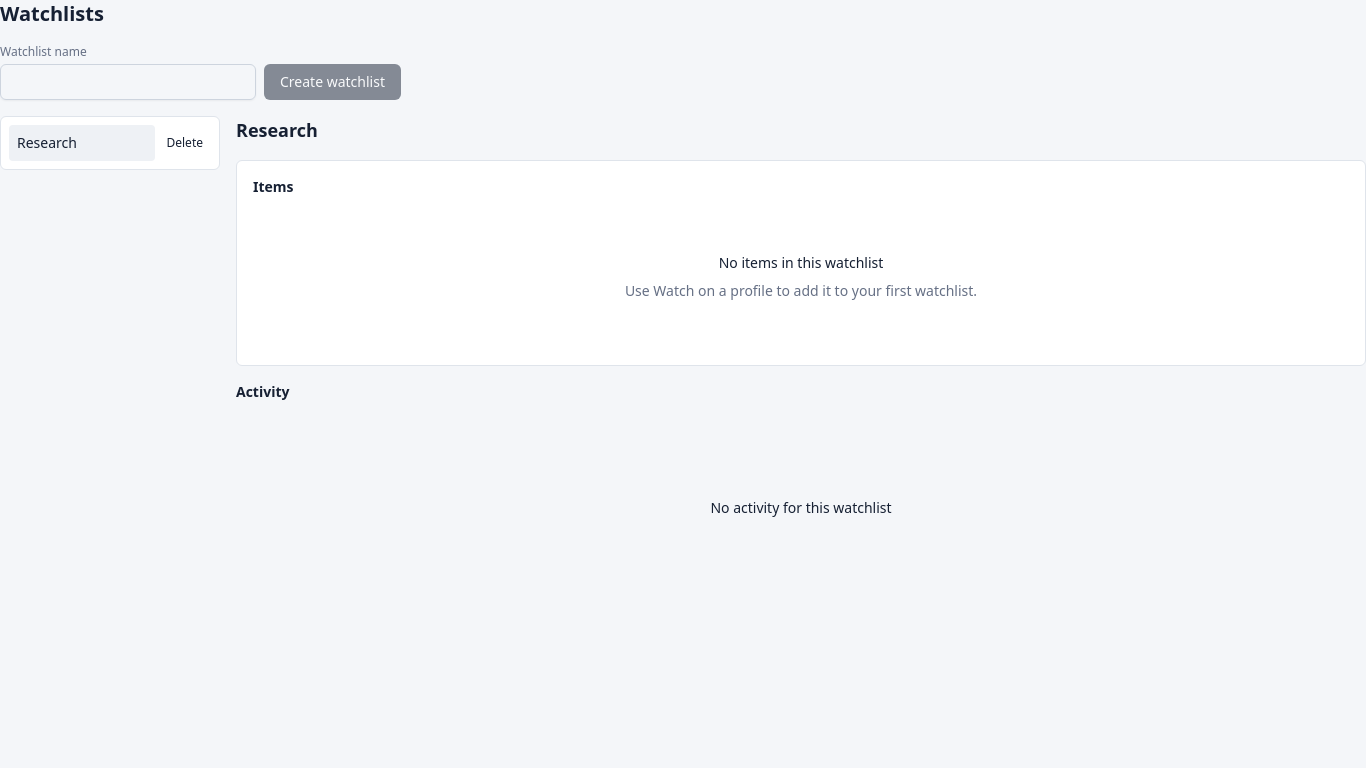
Test: failed deletion keeps its confirmation and does not remove the list
This screenshot has width=1366, height=768.
Click the button with aria-label "Delete Research".
click(185, 143)  # box [158, 131, 211, 155]
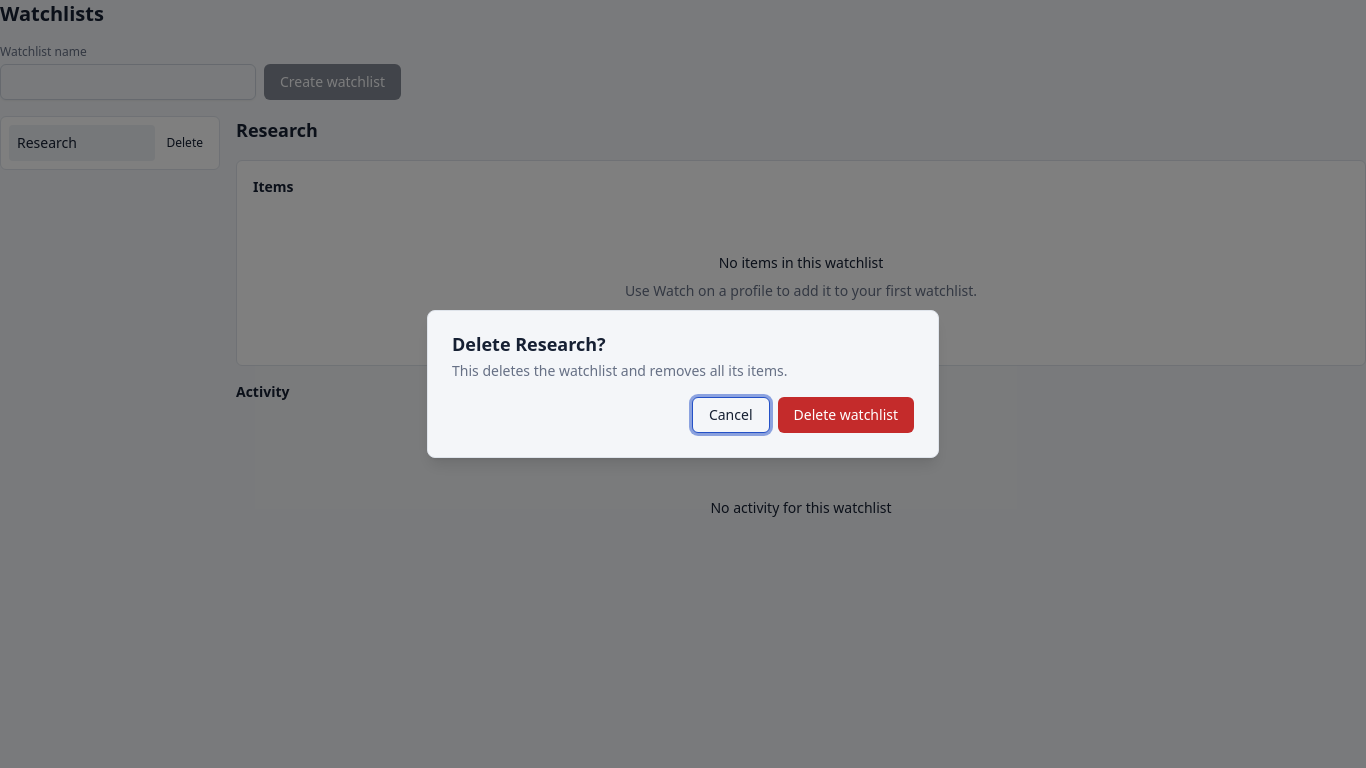
Click the button "Delete watchlist".
click(846, 415)  # box [778, 397, 914, 433]
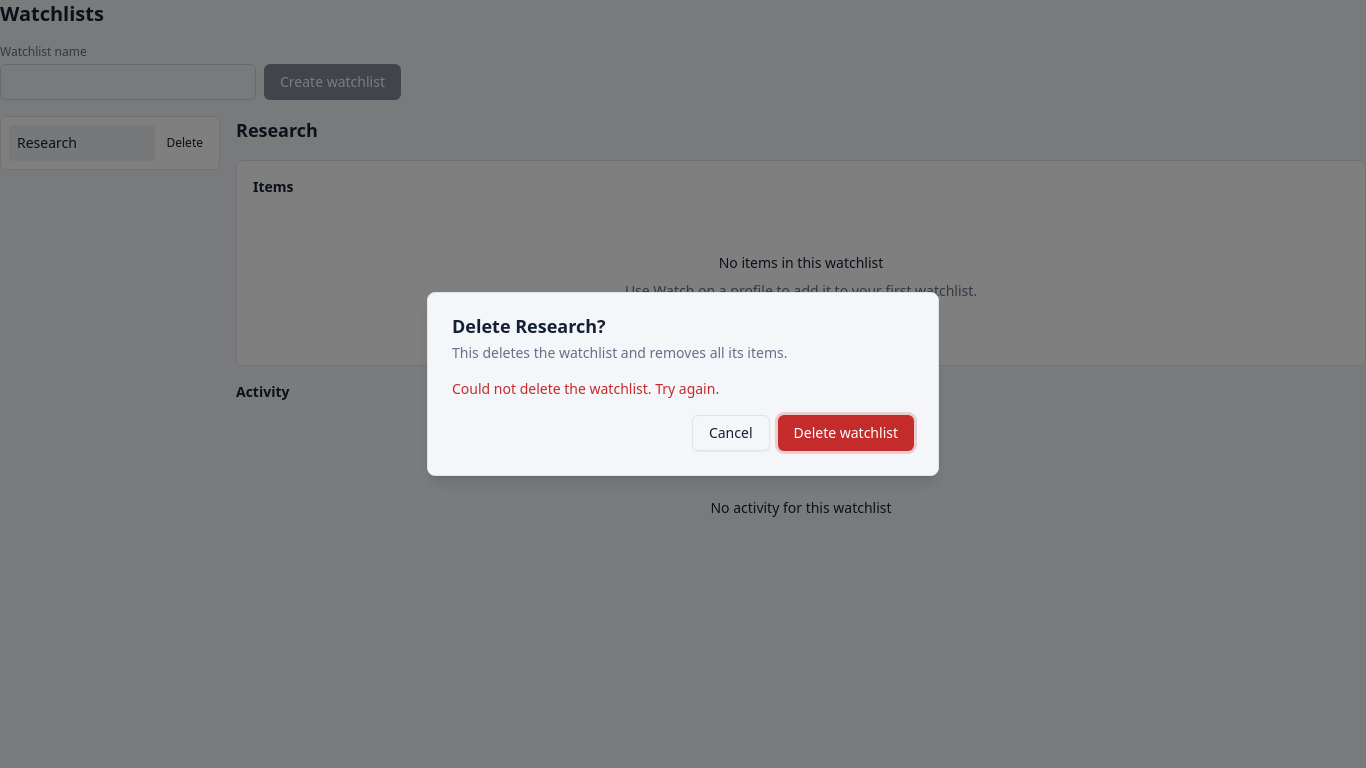
Expected: the heading "Research" is shown, [236, 118, 318, 142]
Expected: the message shows "Could not delete the watchlist", [452, 379, 719, 398]
